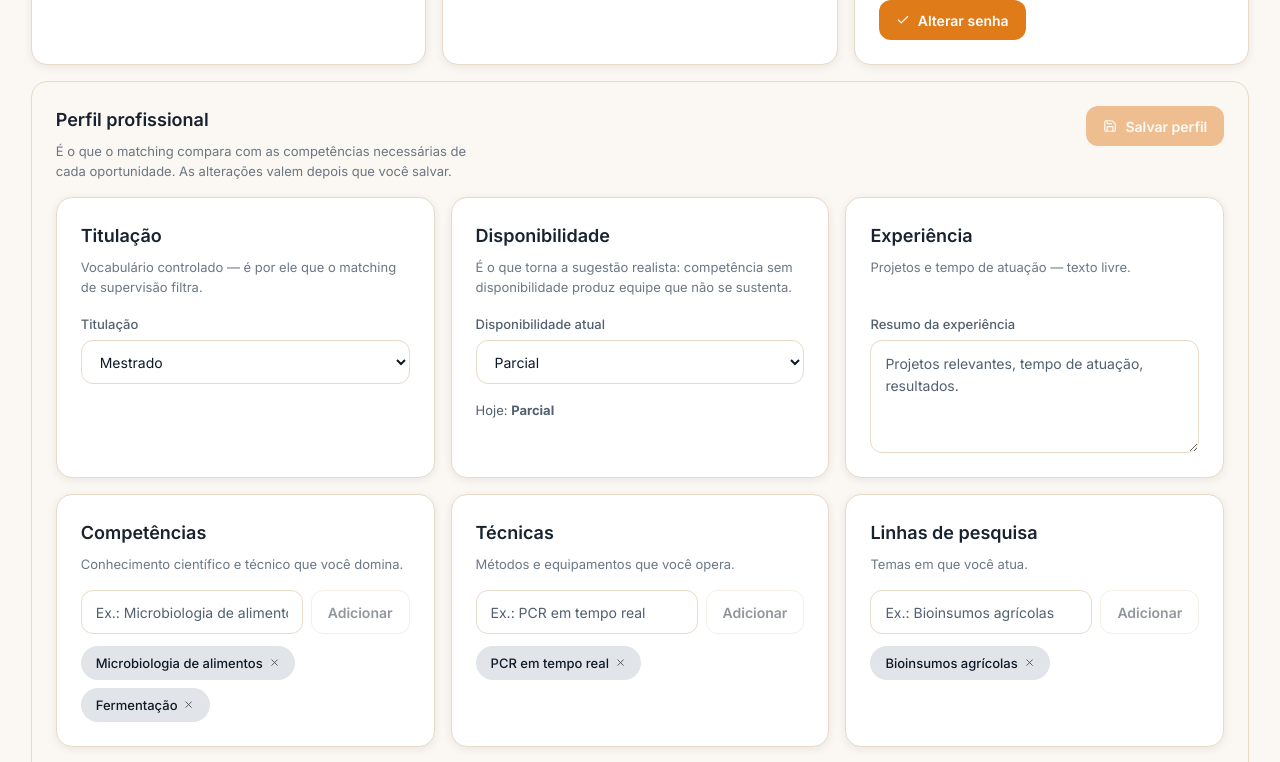
Scenario: PerfilPage › mostra a recusa do servidor ao salvar
(page scrolled)
Check: the heading "Perfil profissional" is shown, box [56,109,209,130]
Select "Doutorado" in the dropdown labelled "Titulação" at (245,362), box [81,340,410,384]
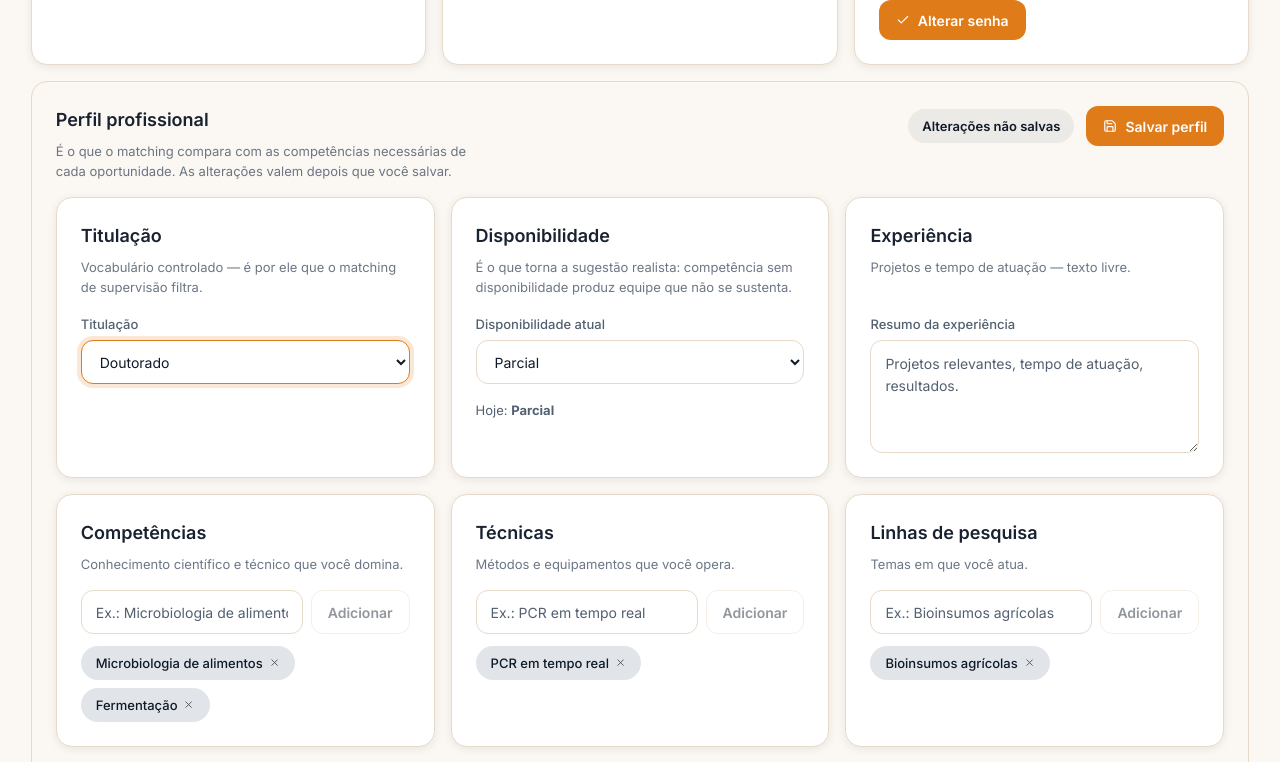
Click the button "Salvar perfil".
click(1155, 126)  # box [1086,106,1224,146]
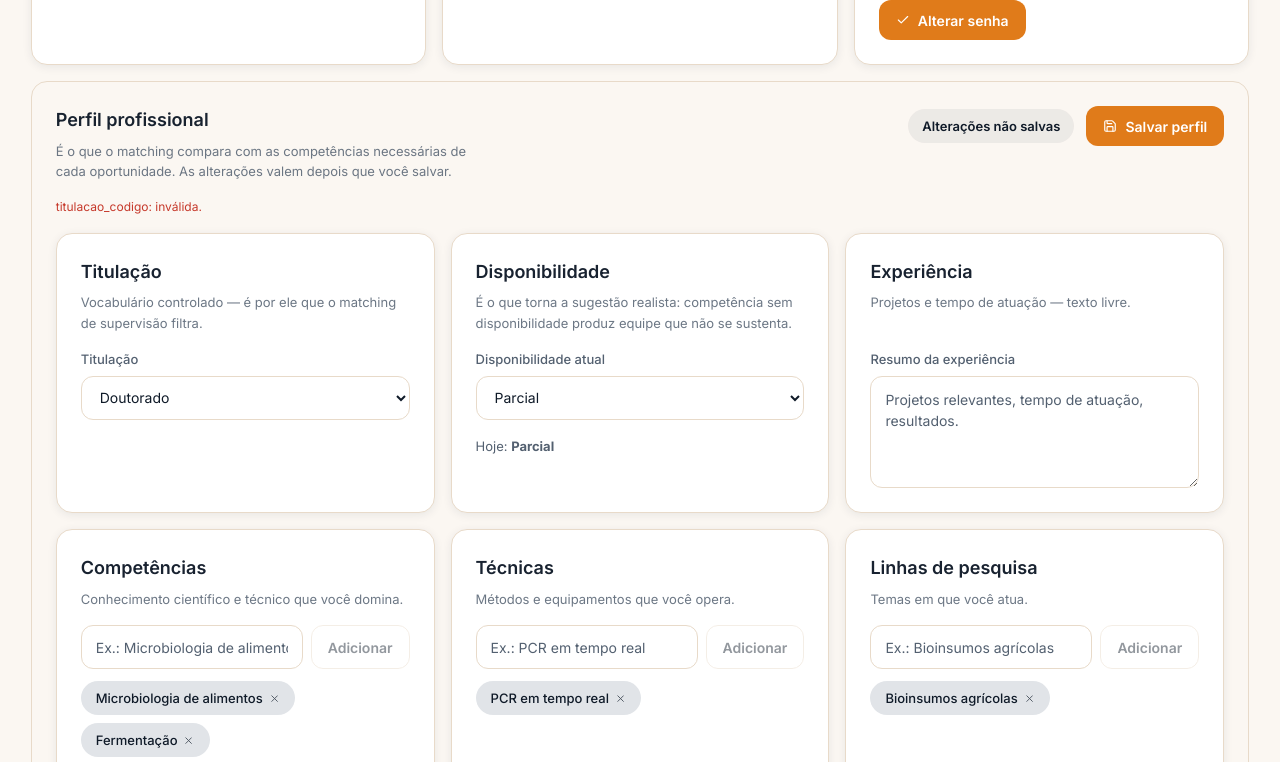
Check: the message "titulacao_codigo: inválida." is shown, box [56,199,202,214]
